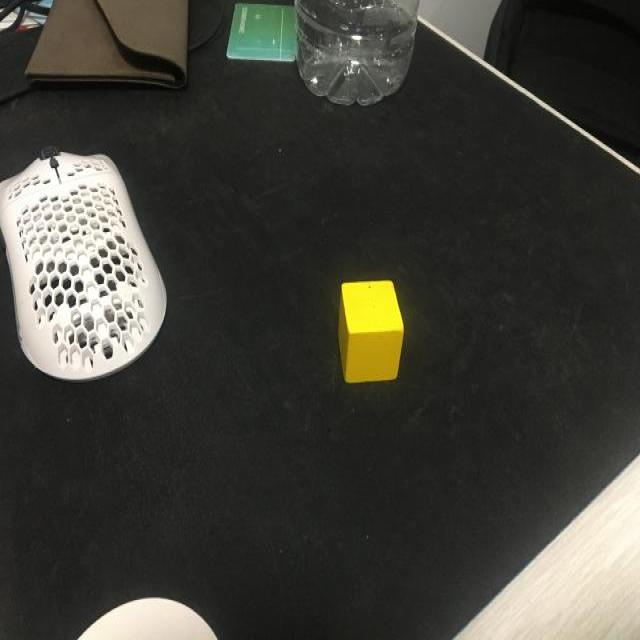yellow: (338, 281, 404, 384)
